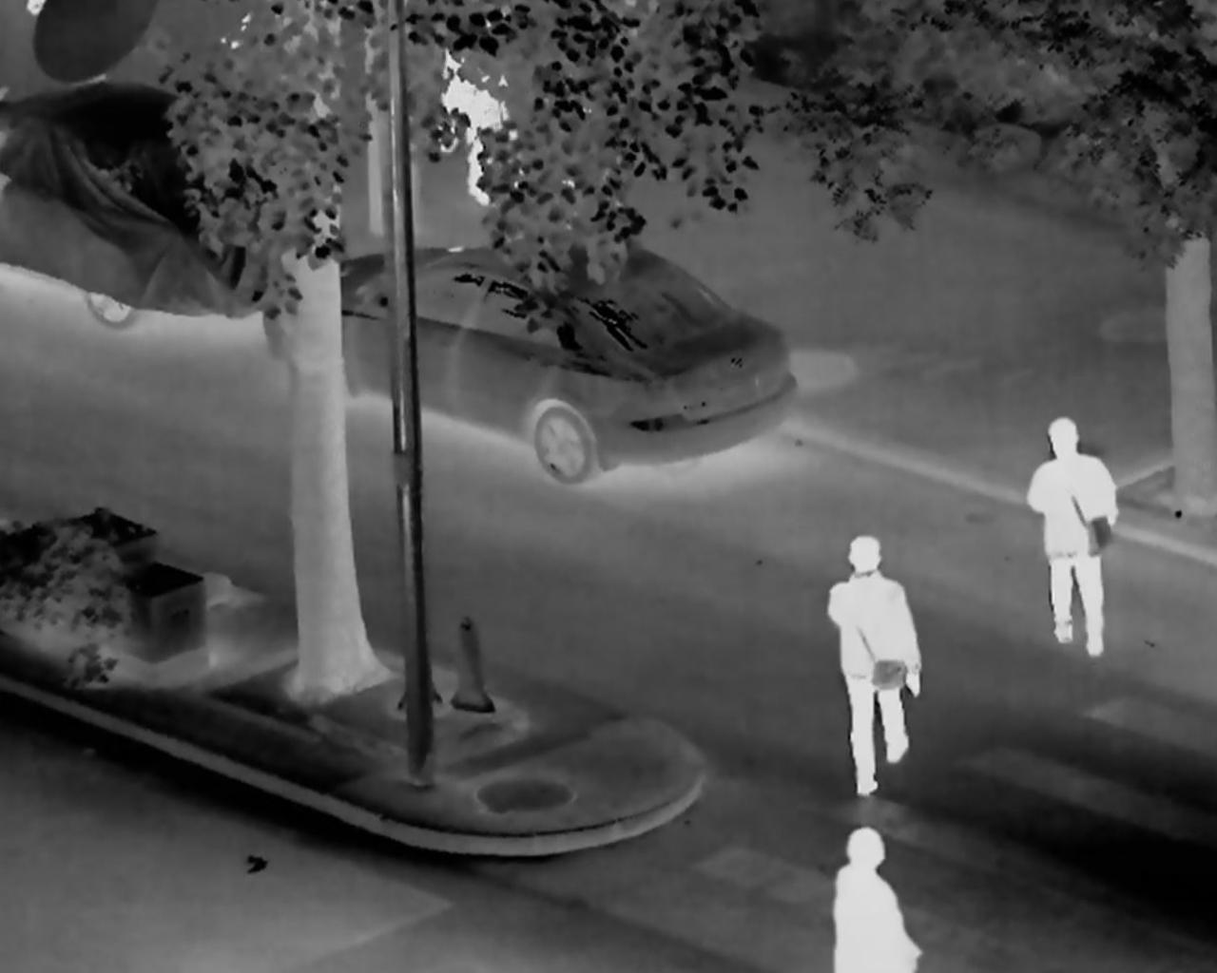person: (825, 536, 919, 795), (1027, 417, 1122, 655), (831, 828, 926, 973), (443, 37, 519, 203)
